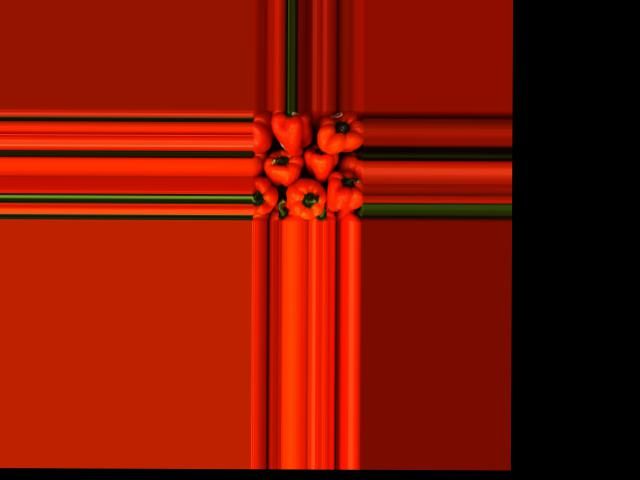bell_pepper: (253, 109, 271, 153)
